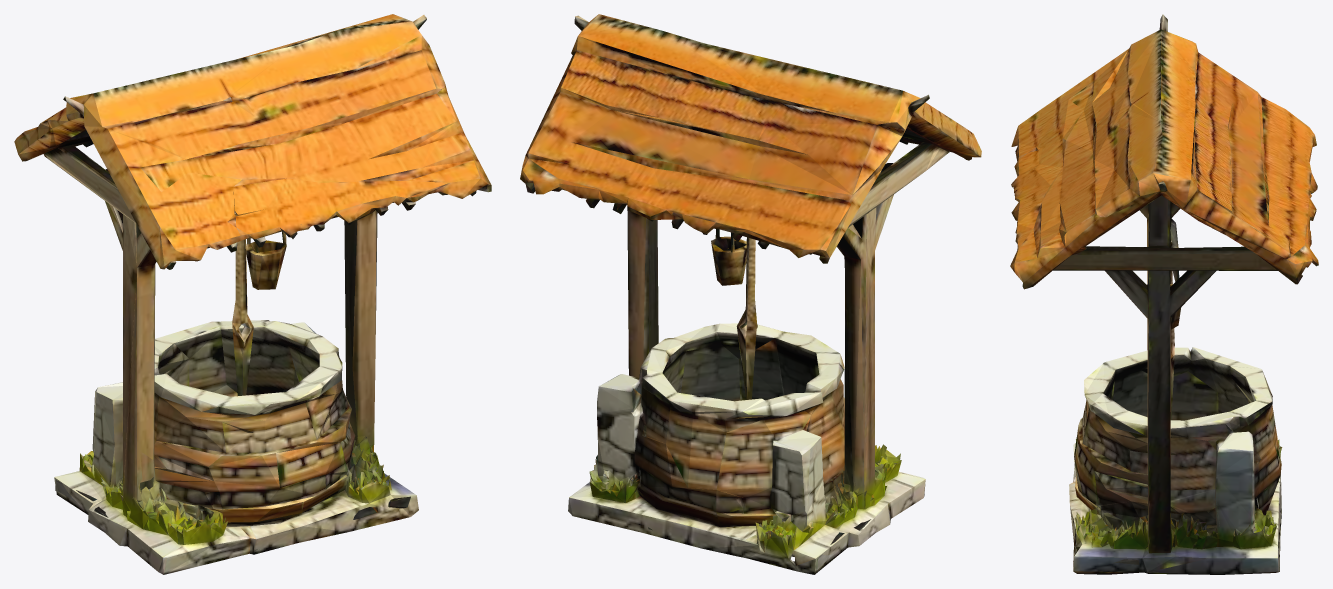
File: village_water_well_01.glb
3 renders of one model, left to right at view 1: azimuth 30°, elevation 25°; view 2: azimuth 150°, elevation 25°; view 3: azimuth 270°, elevation 25°, orthographic. The views are drawn at different scales.
Visible parts, largest first — view 1: geometry_0; view 2: geometry_0; view 3: geometry_0.
Boxes of the visible parts, <box> form: geometry_0: <box>14,14,491,574</box>; geometry_0: <box>520,14,981,574</box>; geometry_0: <box>1010,14,1318,574</box>.
Bounding box in the file's own units: 0.8209 × 0.9977 × 0.658.
1 material, 1 textured.
